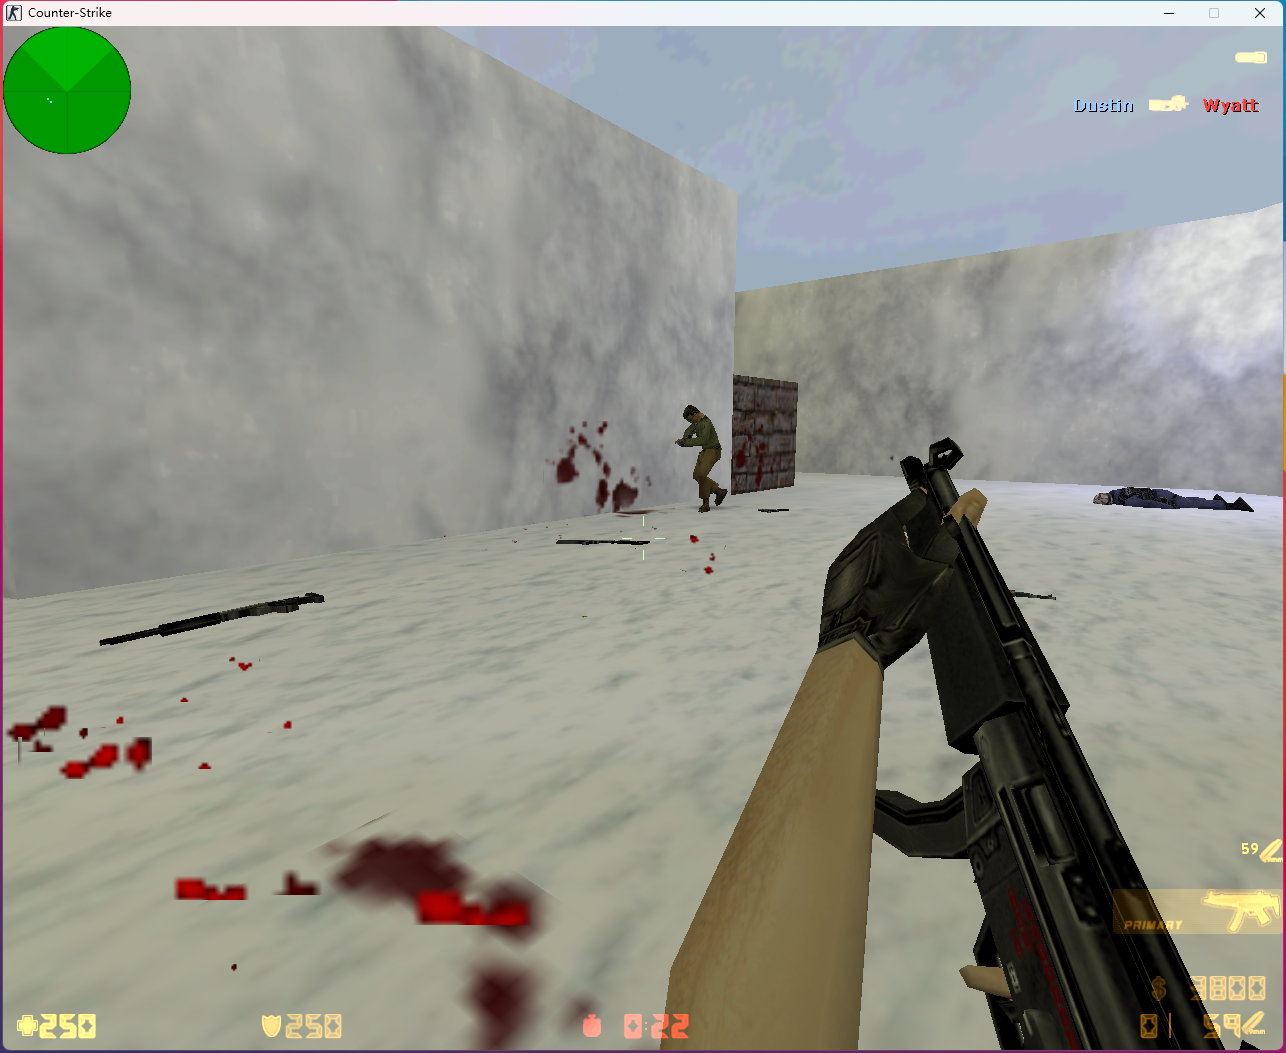T: (674, 402, 728, 514)
dead: (1082, 477, 1258, 516)
weapon: (93, 593, 319, 647), (555, 536, 643, 550), (750, 505, 798, 517)
